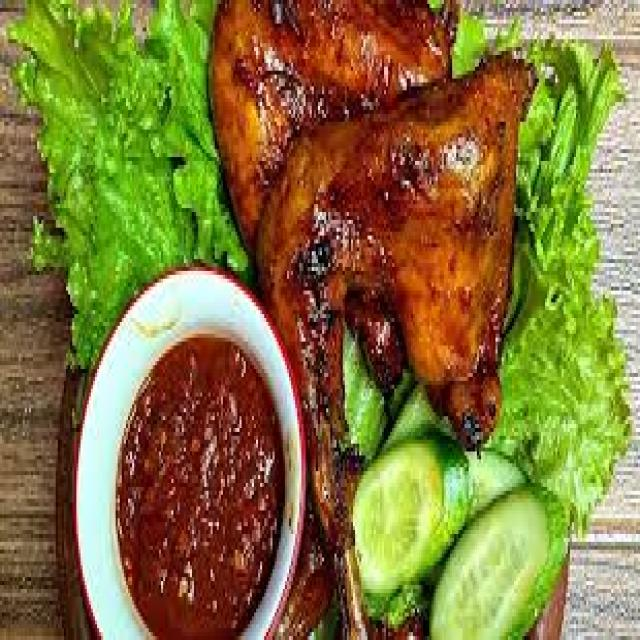ayam bakar: (264, 55, 537, 640)
